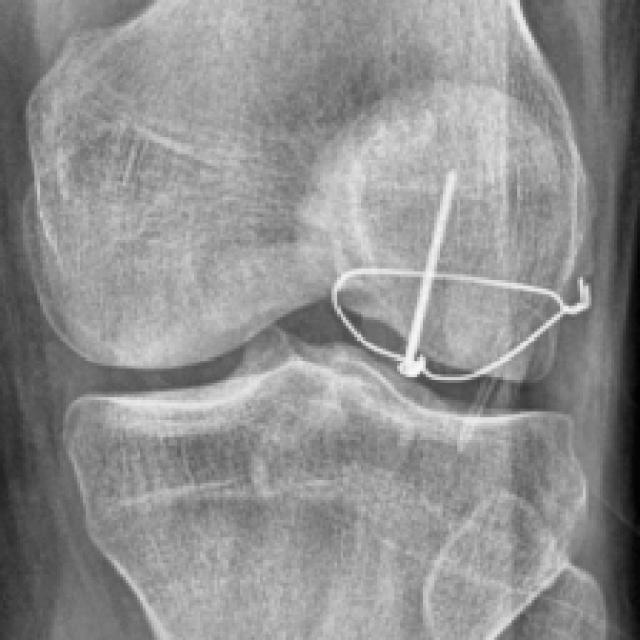femur: (21, 0, 593, 384)
tibia: (62, 327, 589, 640)
